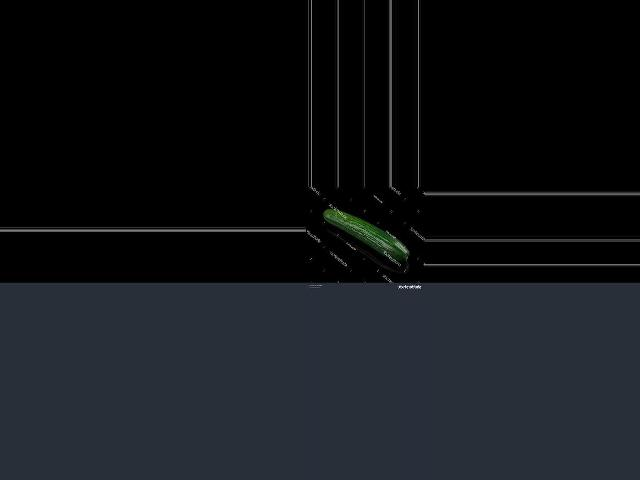cucumber: (322, 208, 408, 263)
